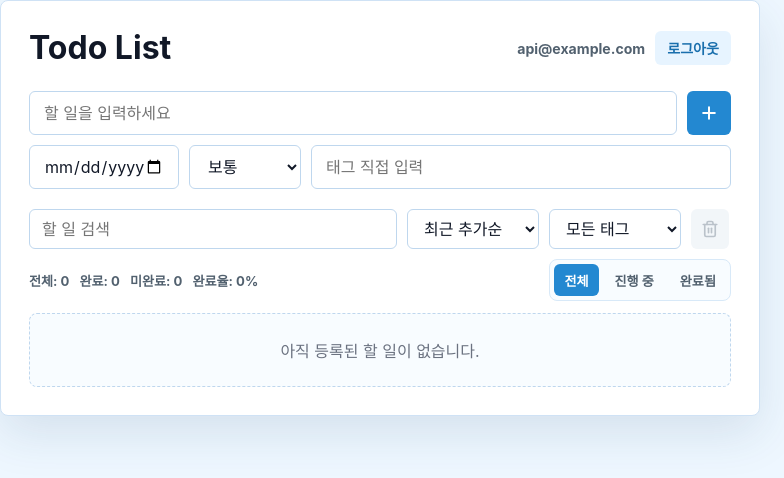
it: TodoApp › Todo API 실패 시 오류 메시지를 표시한다.
In the field named "할 일 입력": (353, 113) x1=29 y1=91 x2=677 y2=135, type "실패할 할 일"
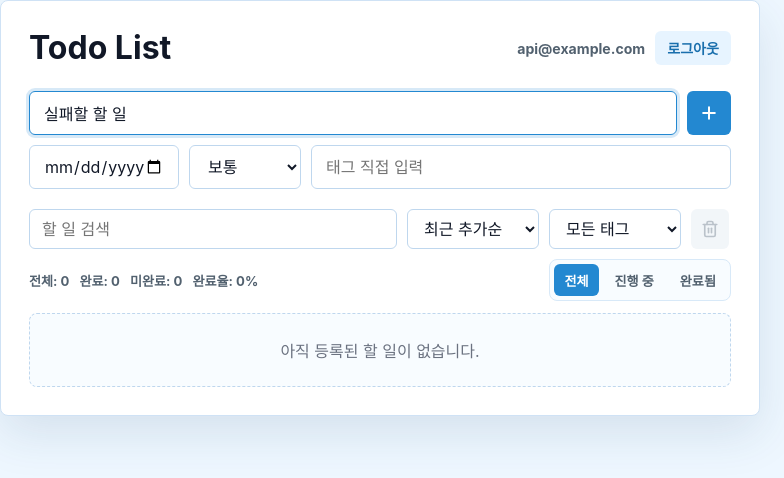
Click the button named "할 일 추가": (709, 113) x1=687 y1=91 x2=731 y2=135
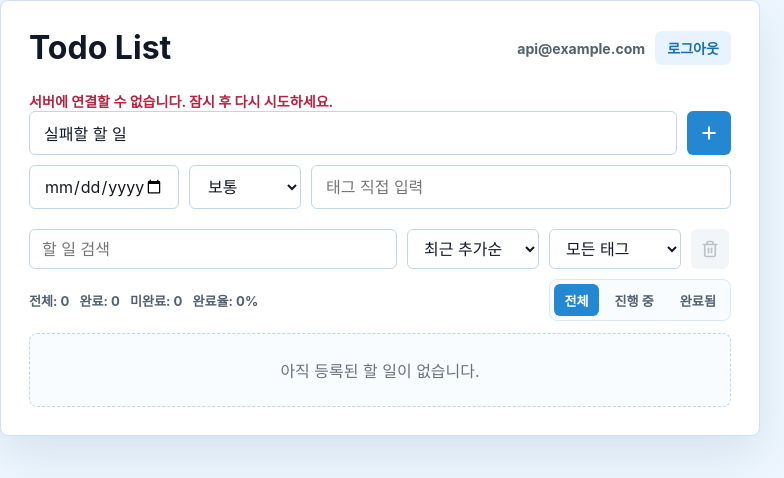
Check: the message reads "서버에 연결할 수 없습니다. 잠시 후 다시 시도하세요.", box x1=29 y1=93 x2=333 y2=110
